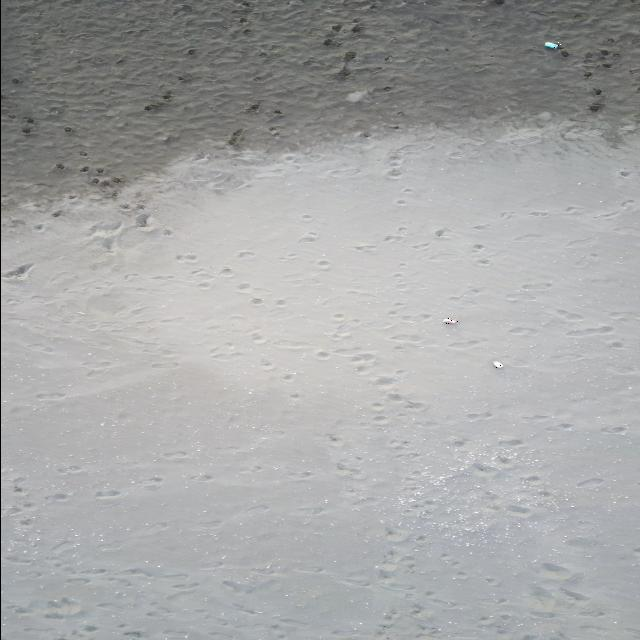Garbage: (346, 89, 366, 101), (544, 40, 560, 48), (443, 316, 457, 324), (492, 360, 503, 367)
